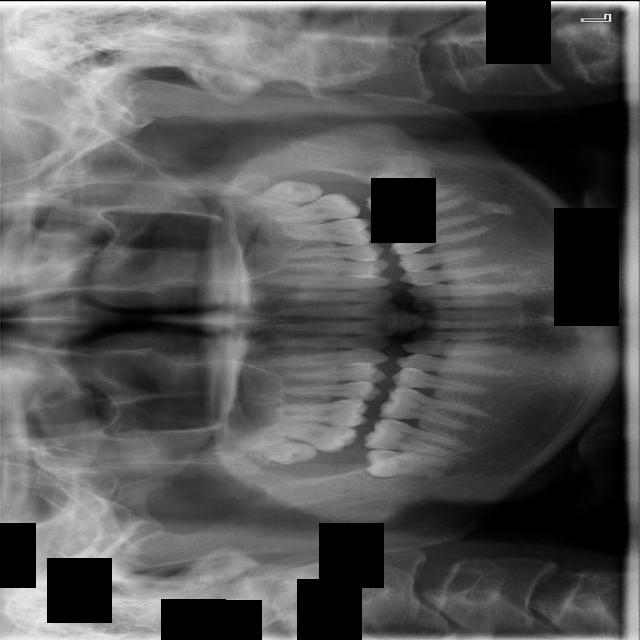3M ESPE Implant: (233, 427, 320, 471)
73: (582, 42, 596, 44)
BioHorizons Implant: (259, 191, 363, 225)
BioLife Implant: (243, 175, 324, 211)
Biomet 3i Implant: (372, 152, 436, 194)
Blue Sky Bio Implant: (364, 185, 475, 227)
Caries: (252, 418, 360, 454)
Implant: (362, 414, 463, 459)
Keystone Dental Implant: (364, 448, 454, 480)
